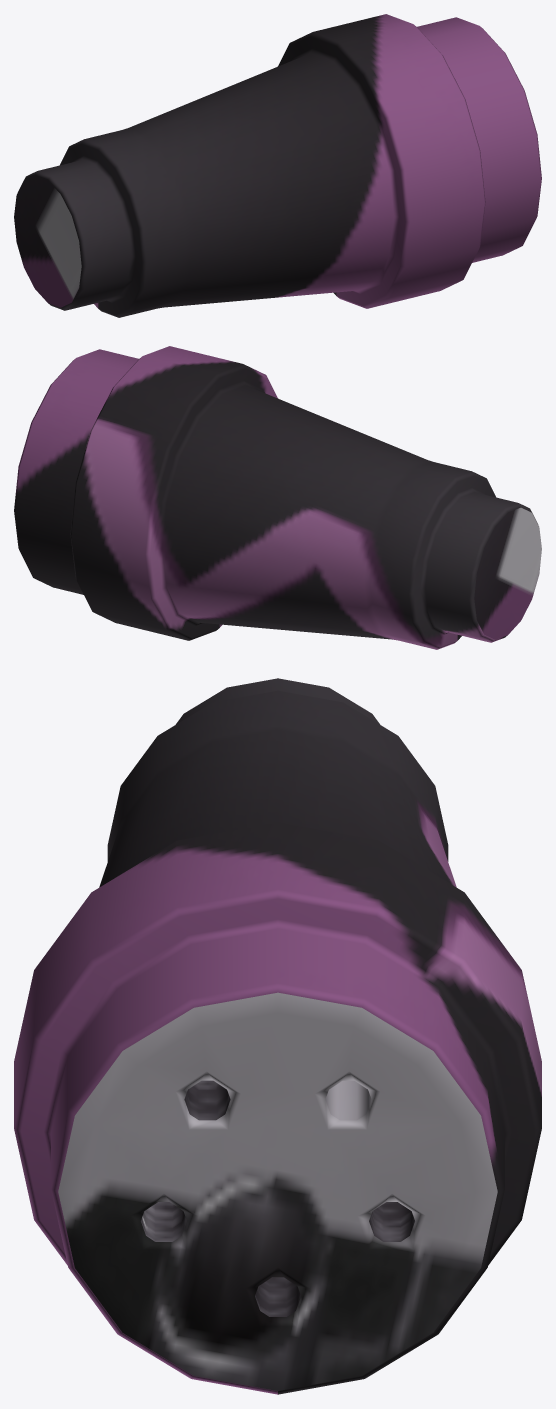
File: SM_EDSPowerPlugFemale.fbx
3 views of the same model, one above another, from view 1: azimuth 30°, elevation 25°; view 2: azimuth 150°, elevation 25°; view 3: azimuth 270°, elevation 25° (orthographic). The views are drawn at different scales.
Parts seen in each view (by area): view 1: Cable Plug - Female; view 2: Cable Plug - Female; view 3: Cable Plug - Female.
Boxes of the visible parts, x1=… form: Cable Plug - Female: x1=14, y1=14, x2=541, y2=317; Cable Plug - Female: x1=14, y1=346, x2=541, y2=649; Cable Plug - Female: x1=14, y1=678, x2=541, y2=1394.
Size of the model in its own units: 13.13 by 7.4 by 7.4.
